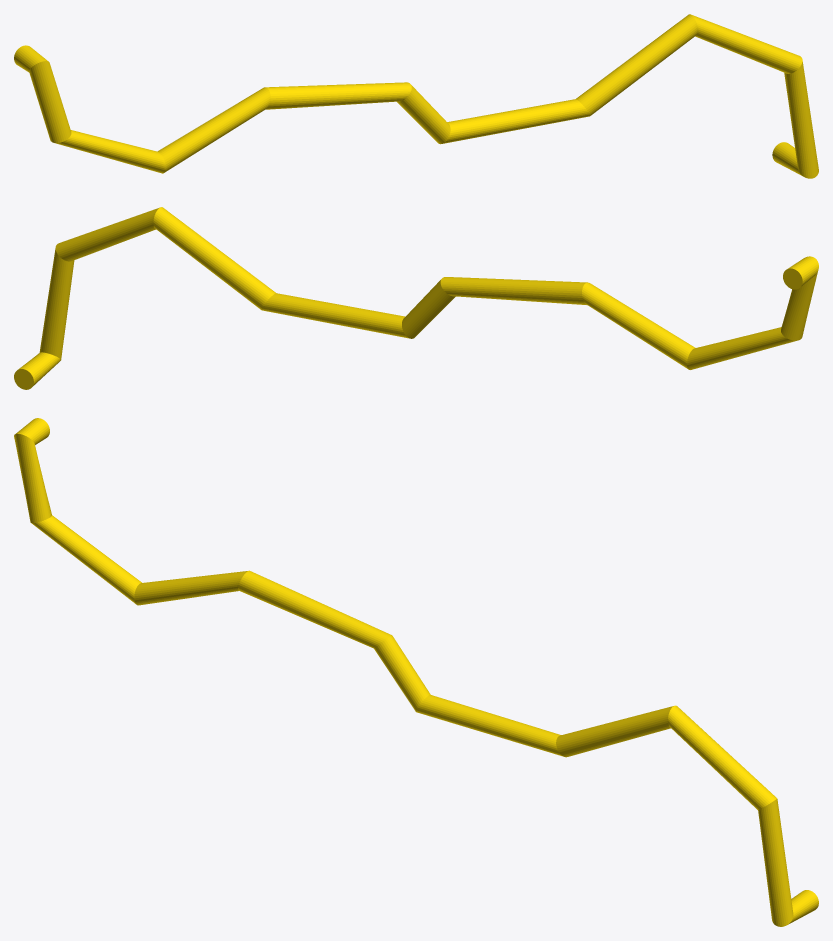
3 views of the same model, one above another, from view 1: azimuth 30°, elevation 25°; view 2: azimuth 150°, elevation 25°; view 3: azimuth 330°, elevation 25° (orthographic).
Parts seen in each view (by area): view 1: line2; view 2: line2; view 3: line2.
Boxes of the visible parts, left/top/right/bottom form: line2: left=14, top=14, right=818, bottom=178; line2: left=14, top=207, right=818, bottom=389; line2: left=14, top=418, right=818, bottom=926.
Bounding box in the file's own units: 717 × 267 × 50.59.
